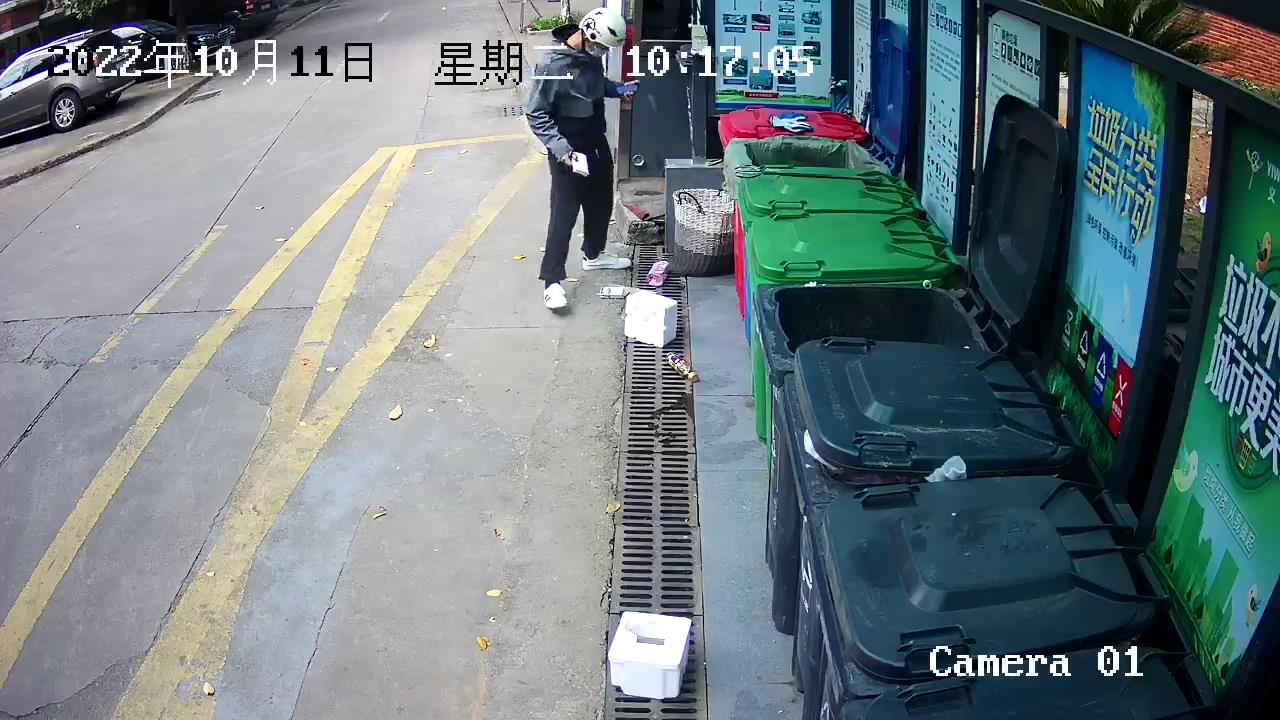paomozhipin: (602, 606, 697, 705)
person: (519, 3, 642, 315)
suliaozhipin: (663, 345, 701, 384), (643, 256, 675, 290)
zhizhipin: (620, 286, 683, 350)
